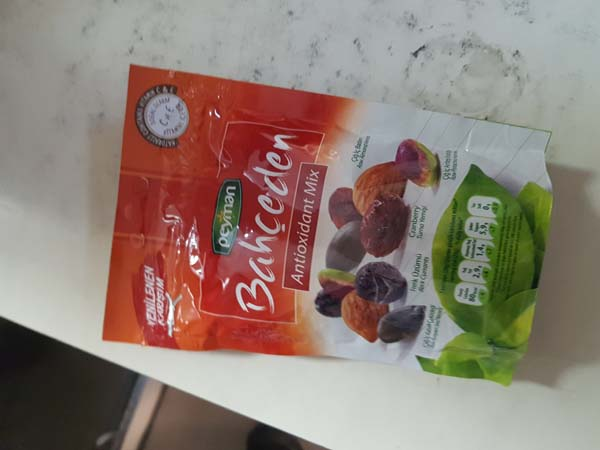bahcedenantioxidan: (105, 57, 554, 395)
